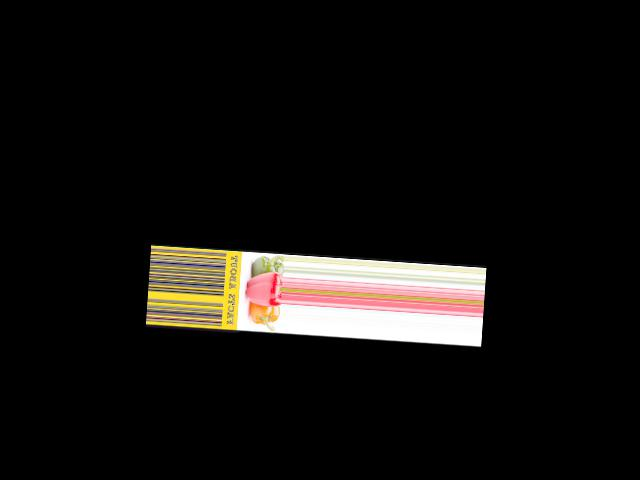bell_pepper: (246, 253, 283, 275)
